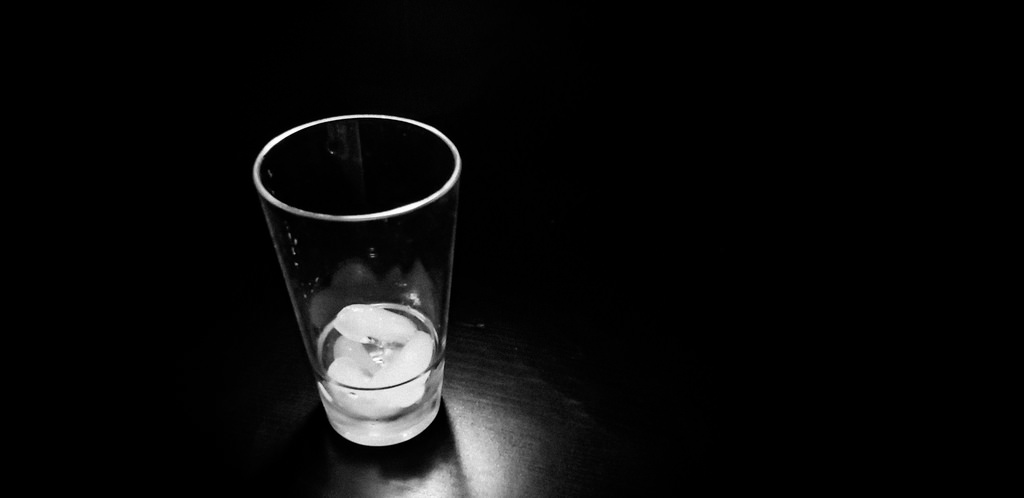glass of water: (260, 120, 475, 477)
